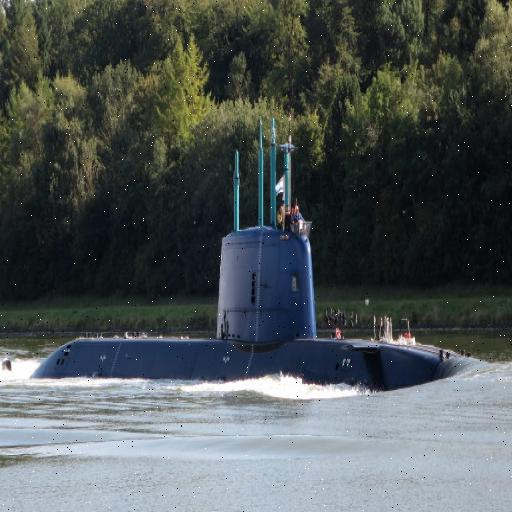submarine: (30, 109, 492, 391)
